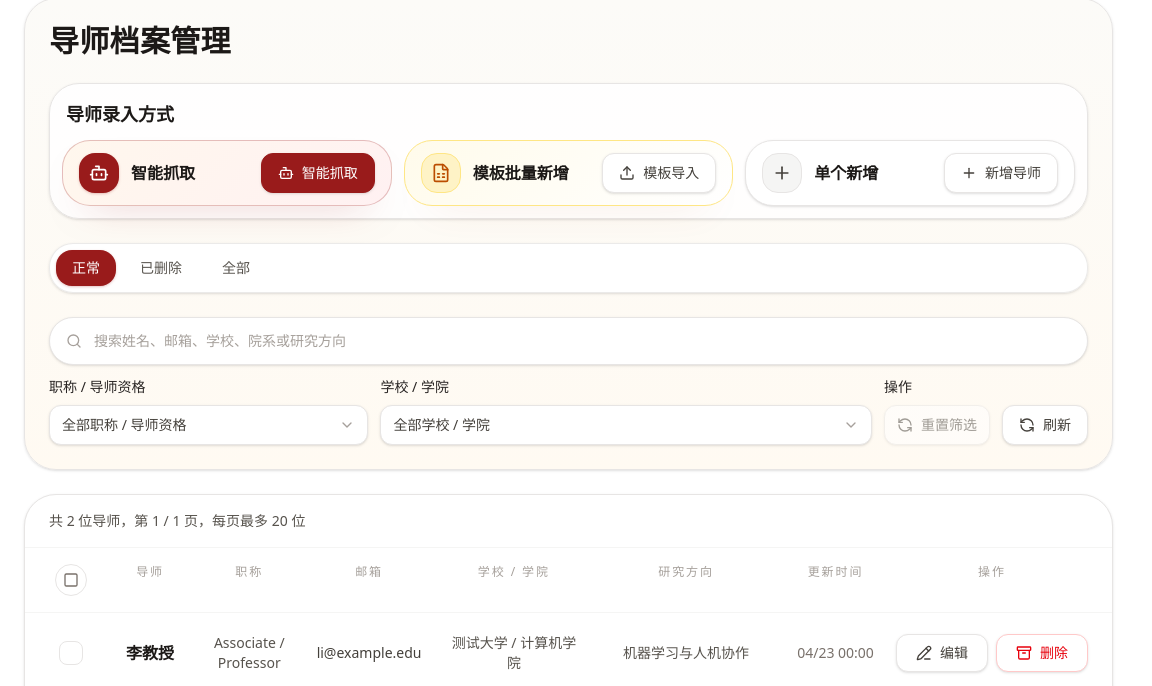
Test case: ProfessorsPage layout › filters professors by title and school pair from the management toolbar
What coordinates should you click on to do the following:
click the button with aria-label "职称筛选"
I would click on:
 (124, 424)
Its box is x1=49 y1=405 x2=368 y2=445.
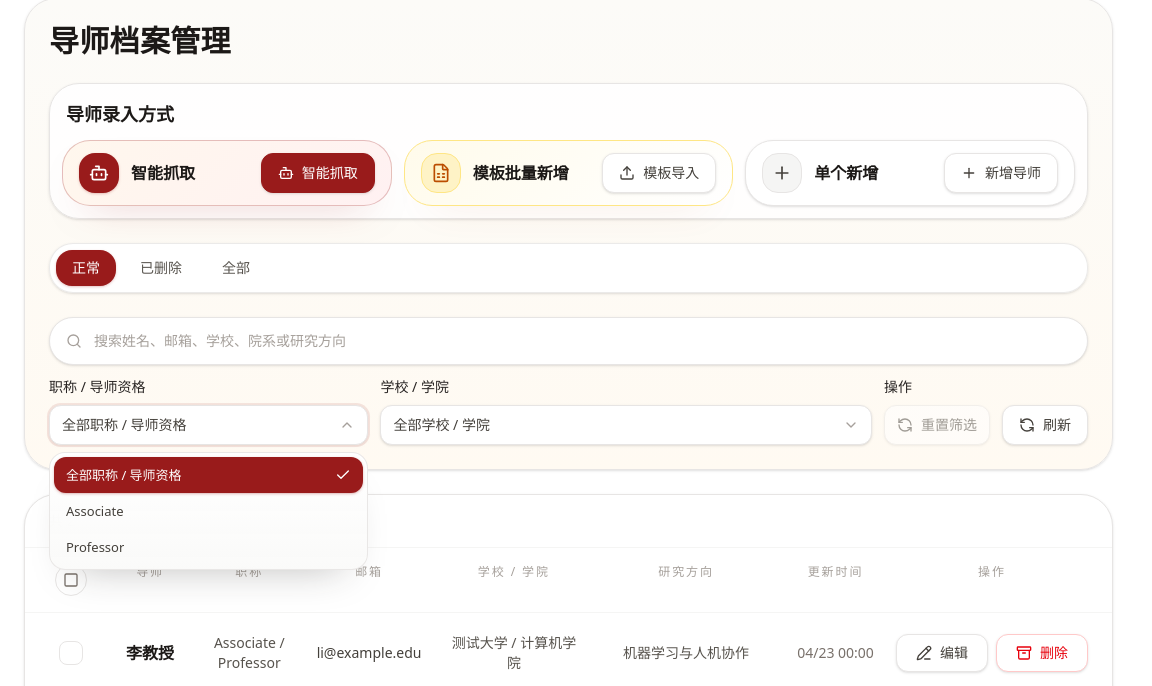
What coordinates should you click on to do the following:
click the option "Professor"
I would click on:
 (95, 547)
Its box is x1=54 y1=529 x2=364 y2=565.
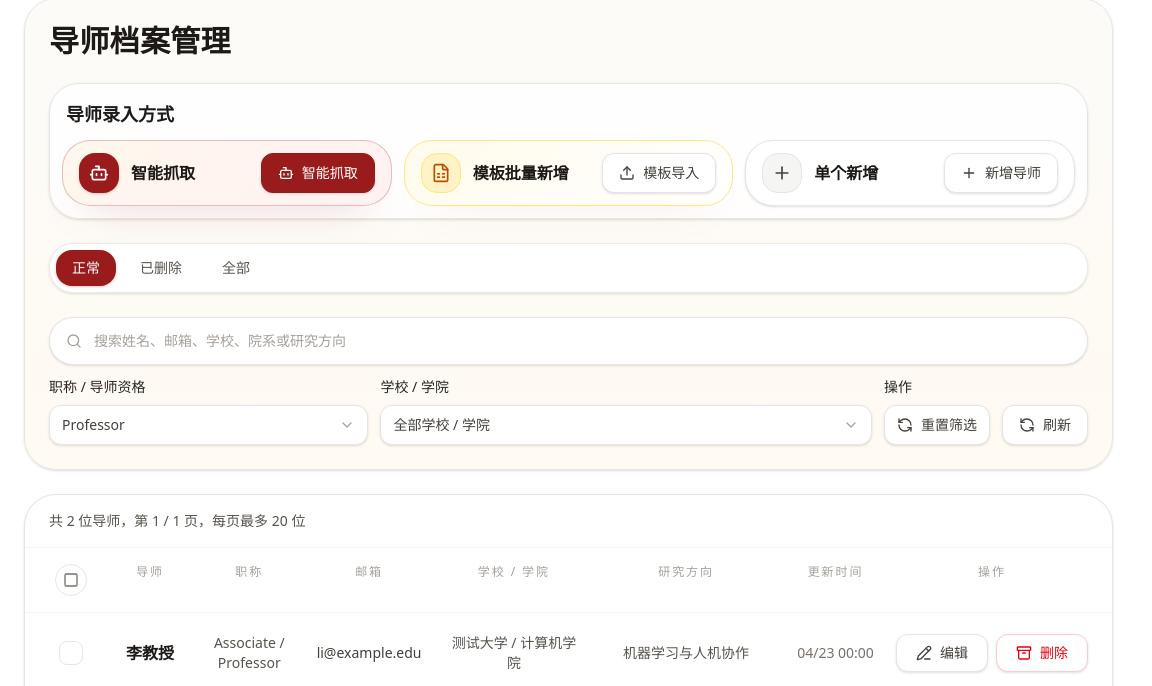
What coordinates should you click on to do the following:
click the button with aria-label "学校学院筛选"
I would click on:
 (442, 424)
Its box is x1=380 y1=405 x2=872 y2=445.
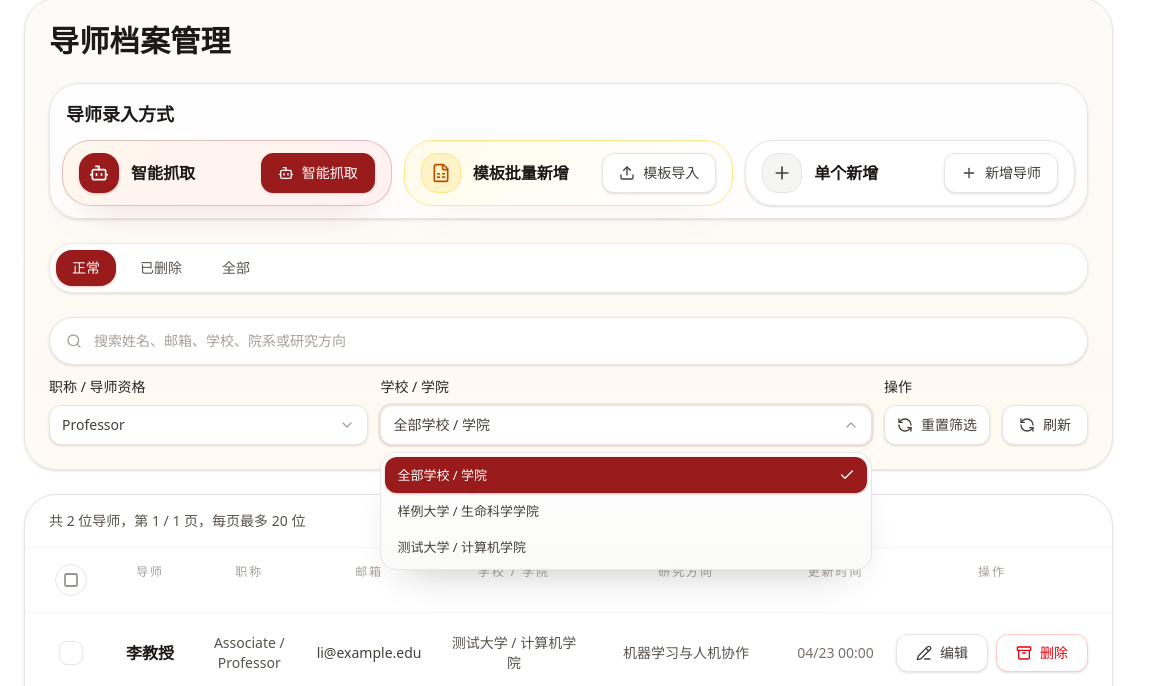
What coordinates should you click on to do the following:
click the option "样例大学 / 生命科学学院"
I would click on:
 (468, 511)
Its box is x1=386 y1=493 x2=867 y2=529.
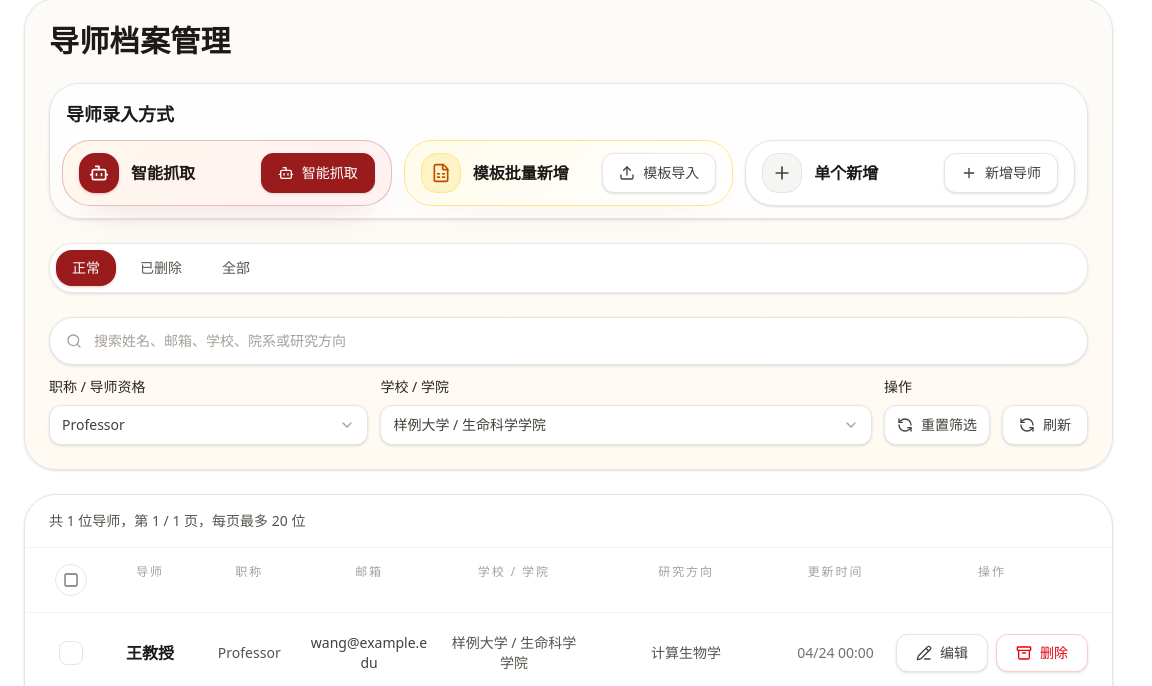
Expected: the text "王教授" is shown, x1=126 y1=642 x2=174 y2=664
Expected: the text "李教授" is gone
Expected: the text "共 1 位导师，第 1 / 1 页，每页最多 20 位" is shown, x1=49 y1=511 x2=305 y2=530
What coordinates should you click on to do the following:
click the button "重置筛选"
I would click on:
 (937, 425)
Its box is x1=884 y1=405 x2=990 y2=445.
(page scrolled)
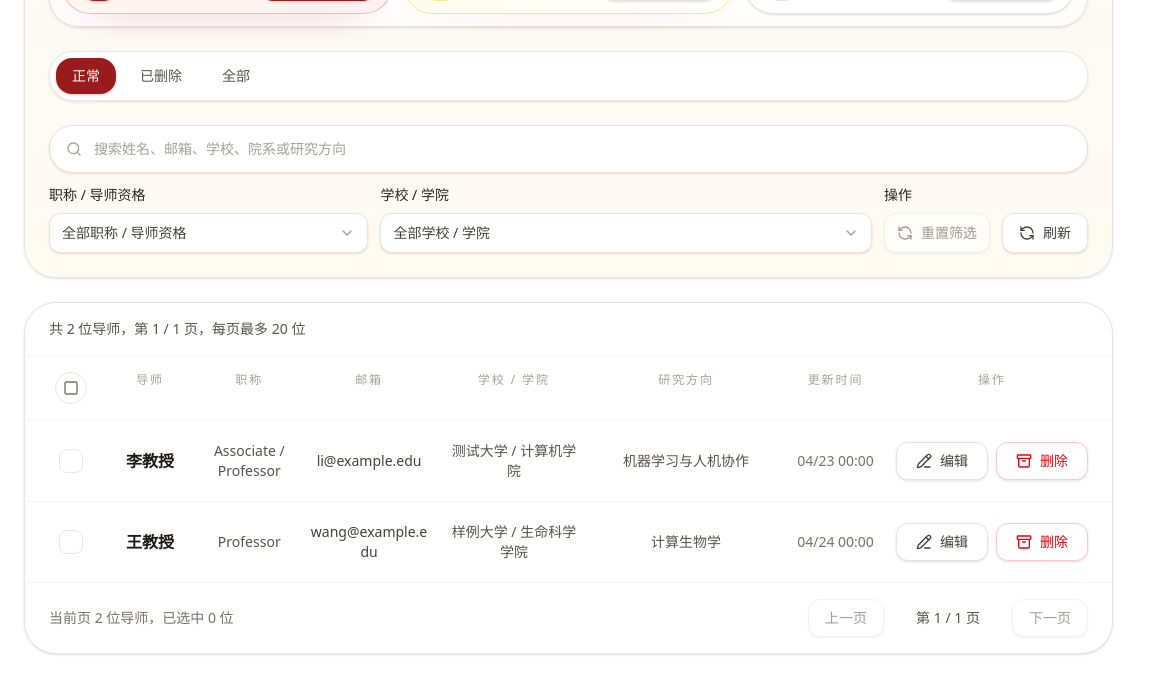
Expected: the text "王教授" is shown, x1=126 y1=531 x2=174 y2=553
Expected: the text "李教授" is shown, x1=126 y1=450 x2=174 y2=472
